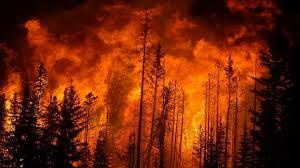fire: (11, 16, 284, 160)
